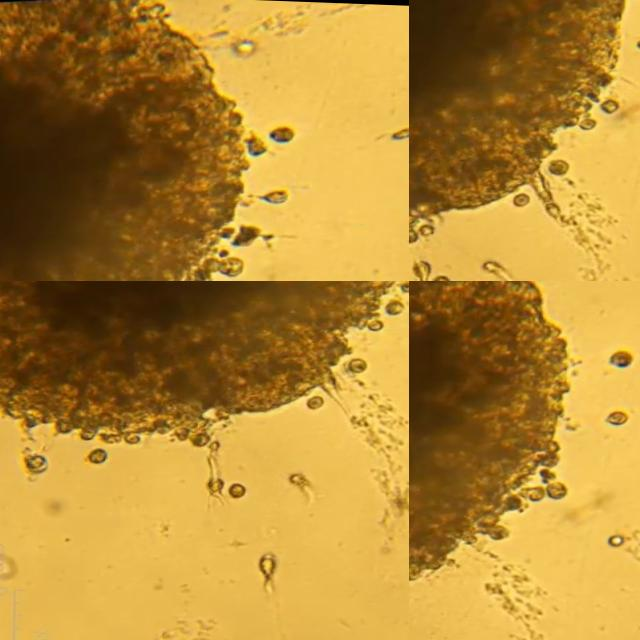cell: (492, 255, 528, 281), (269, 551, 286, 595), (215, 456, 231, 494), (236, 223, 264, 243), (298, 470, 324, 491), (31, 453, 57, 473), (421, 256, 440, 279), (388, 293, 409, 312), (271, 122, 294, 138), (611, 348, 634, 364), (236, 35, 255, 54), (267, 185, 290, 199), (354, 354, 376, 368), (609, 407, 631, 421), (237, 480, 254, 498), (392, 120, 409, 137), (97, 446, 115, 462), (559, 156, 576, 172), (607, 96, 624, 112), (315, 393, 333, 408), (584, 113, 603, 127), (615, 530, 632, 543), (522, 191, 536, 204), (427, 221, 441, 234), (441, 273, 459, 281)
tumor_mass: (409, 281, 586, 589), (409, 0, 627, 242)
